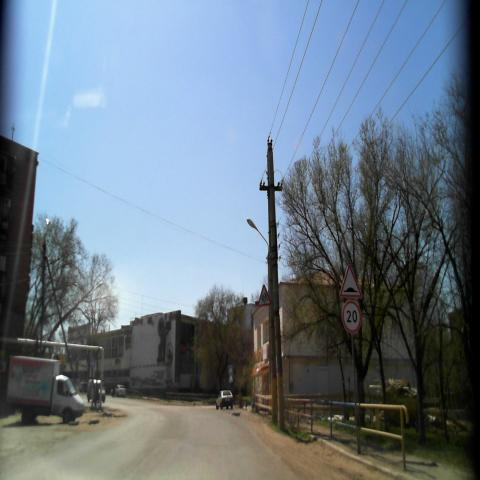3_24: (340, 301, 362, 335)
